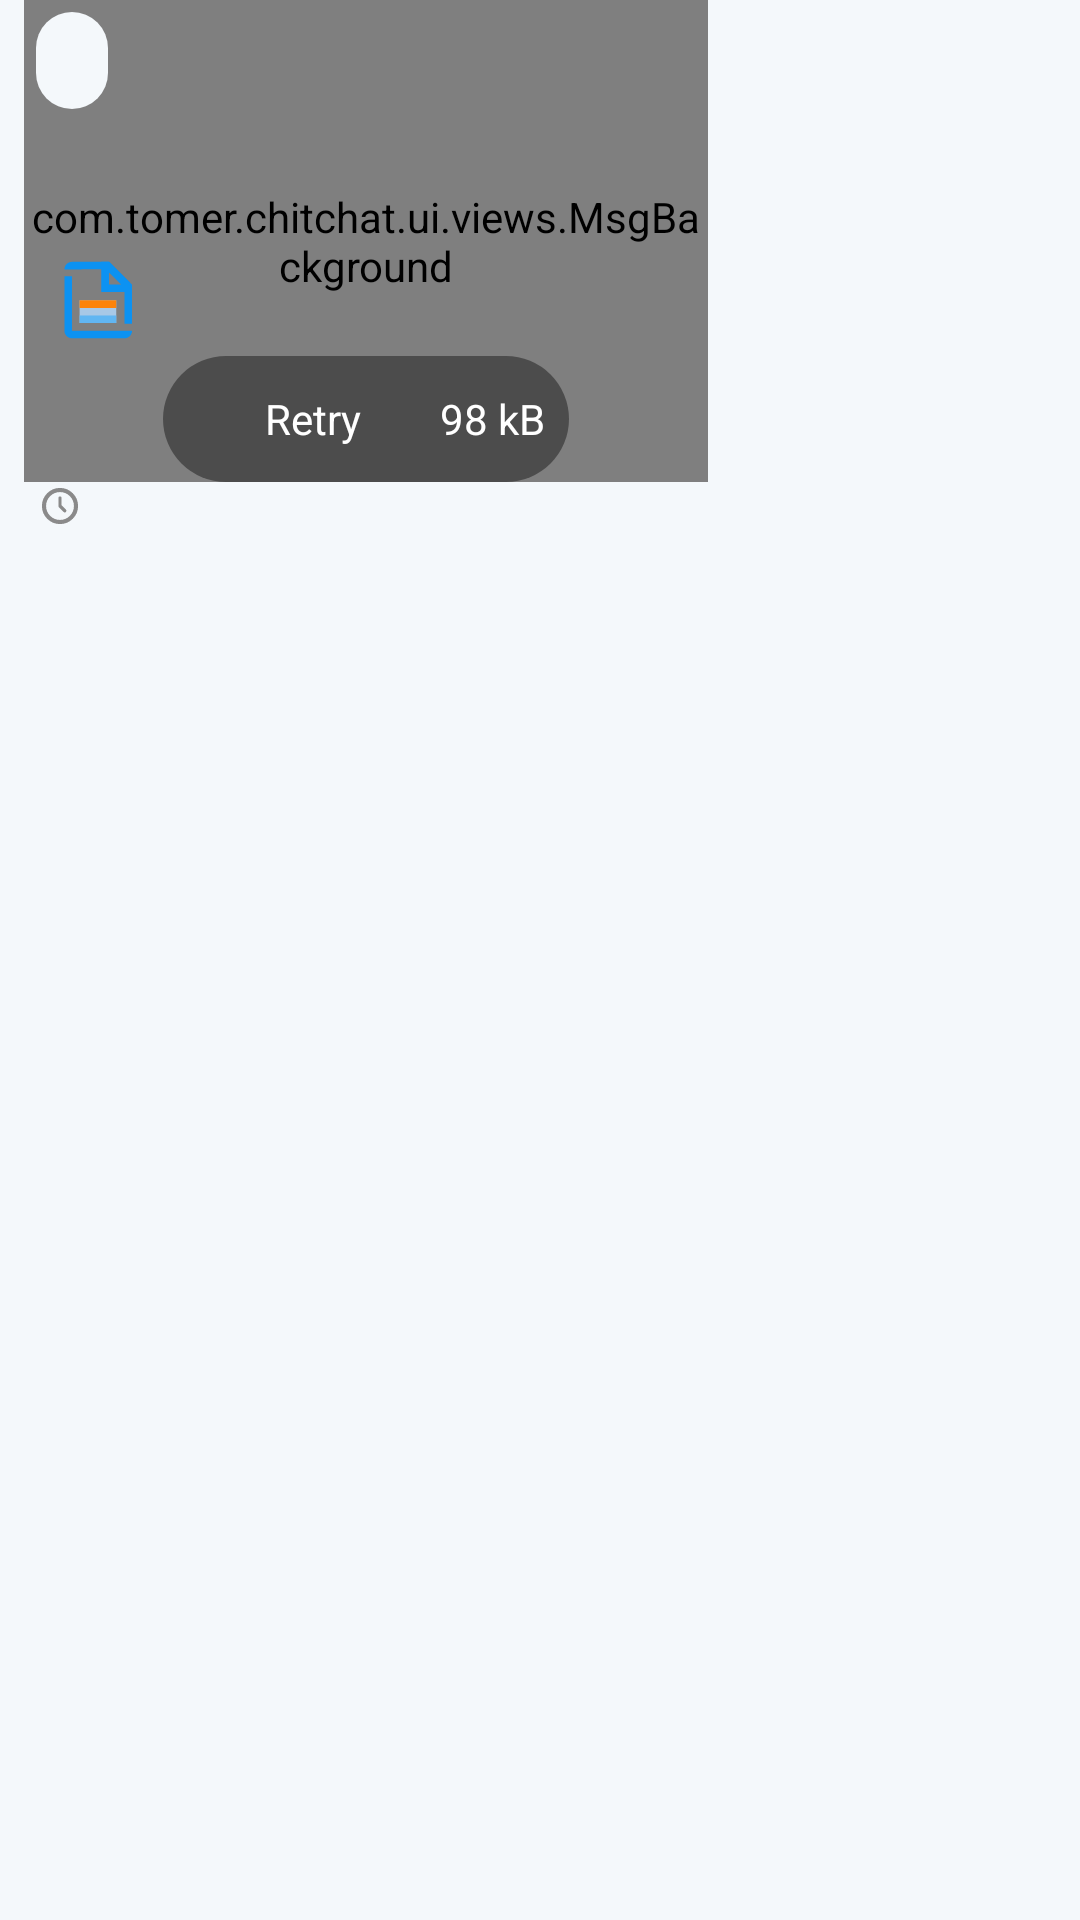

Where to tap for icons on this 1080×1920 app screen, as (x,y):
file: (98,300)
sending: (60,506)
